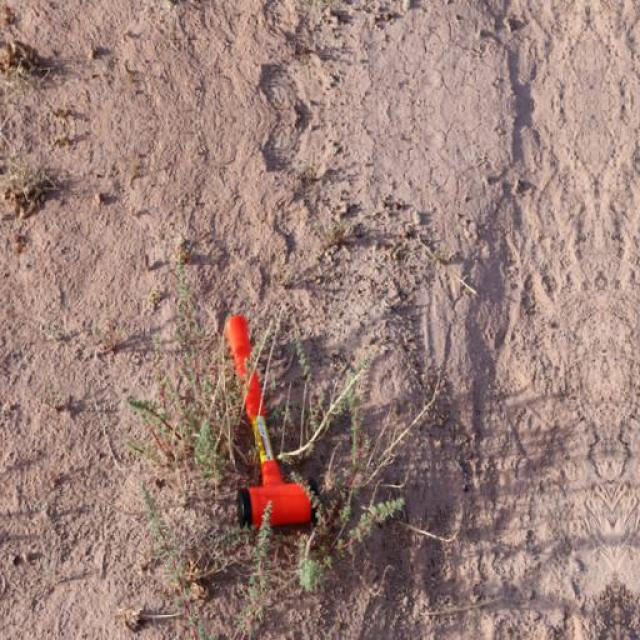mallet: (221, 312, 315, 530)
